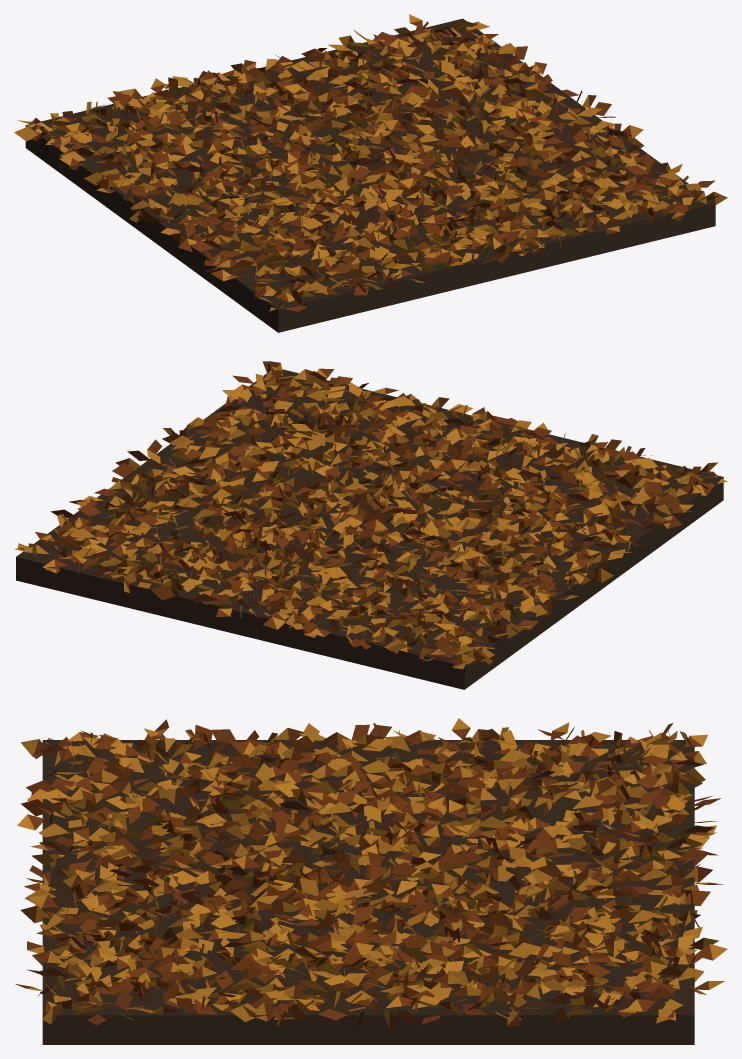
File: terrain_litter.glb
The picture shows the model from 3 angles, top to bottom: view 1: azimuth 30°, elevation 25°; view 2: azimuth 150°, elevation 25°; view 3: azimuth 270°, elevation 25°; orthographic projection. The views are drawn at different scales.
Parts seen in each view (by area): view 1: leaves, soil; view 2: leaves, soil; view 3: leaves, soil.
Part boxes in pixels (box(x1,y1,x2,y2)): leaves: box(14, 14, 727, 311); soil: box(25, 18, 715, 332); leaves: box(14, 361, 727, 669); soil: box(16, 369, 723, 689); leaves: box(15, 718, 727, 1027); soil: box(42, 740, 694, 1044).
Size of the model in its own units: 0.8773 by 0.0551 by 0.8762.
